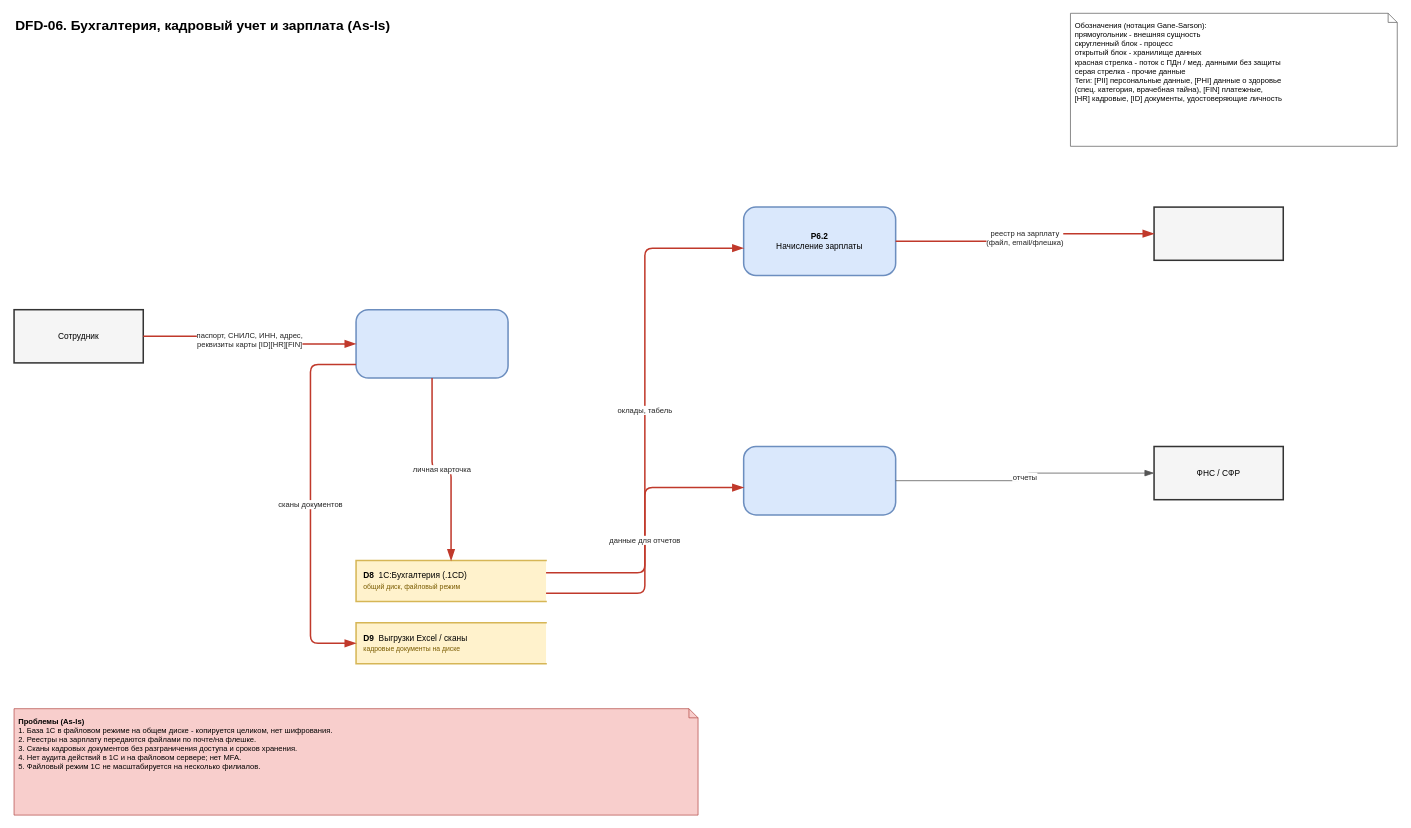
Image size: 1411x828. Some labels were removed from this diagram. The centre of each missing label's shape, as x and y in pixels:
"P6.1 Прием на работу, кадровый учет" goes at pixel 431 343.
"P6.3 Налоговая и социальная отчетность" goes at pixel 819 480.
"Банк (зарплатный проект)" goes at pixel 1218 233.
